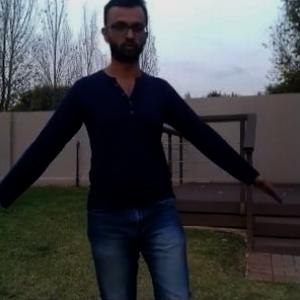land: (11, 6, 266, 299)
